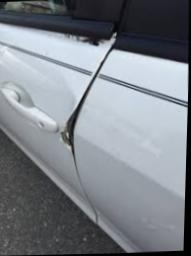Door: (42, 82, 100, 180)
